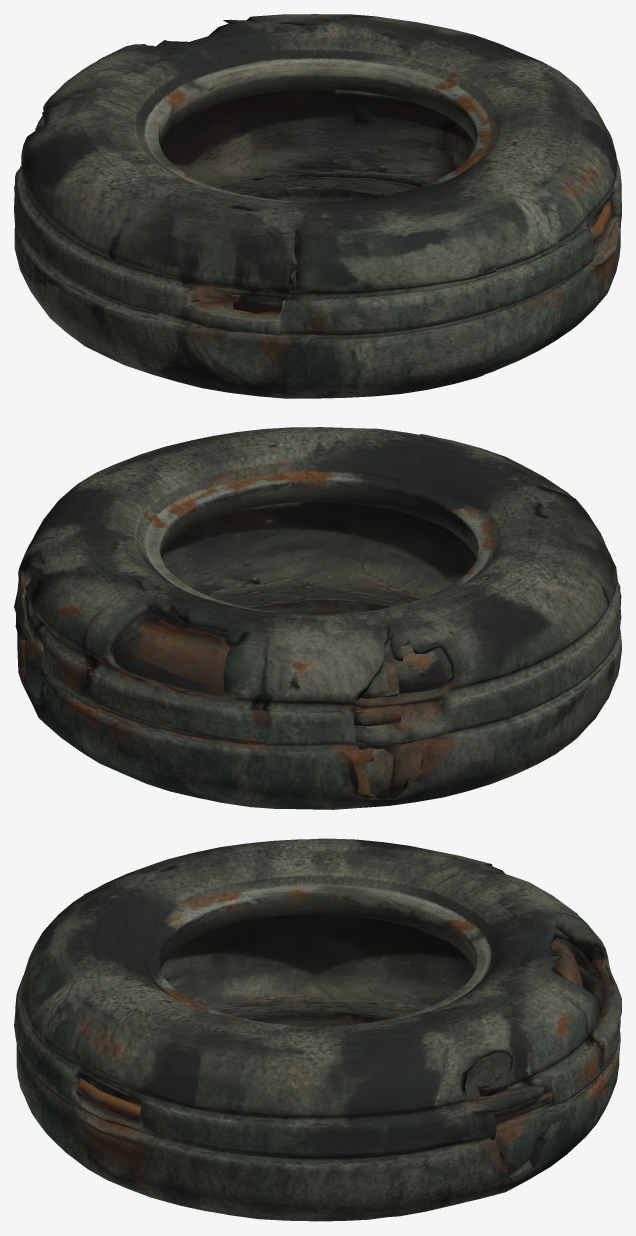
The model's file is trash_small_1.glb.
3 views of the same model, one above another, from view 1: azimuth 30°, elevation 25°; view 2: azimuth 150°, elevation 25°; view 3: azimuth 270°, elevation 25° (orthographic).
Bounding box in the file's own units: 1.91 × 0.6184 × 1.9.
Materials: 1 (1 with a texture image).
